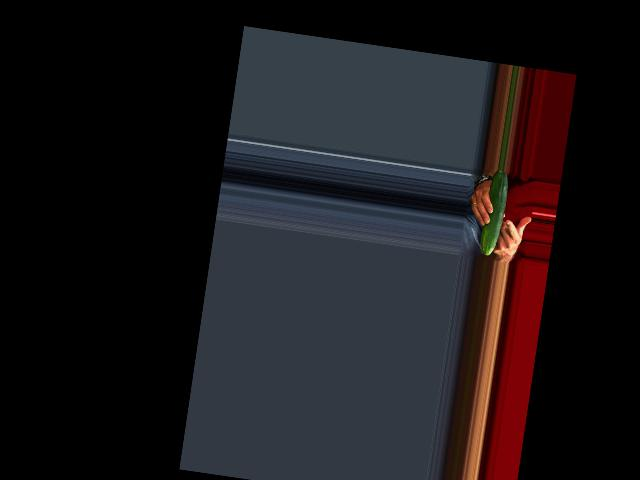cucumber: (477, 168, 510, 256)
